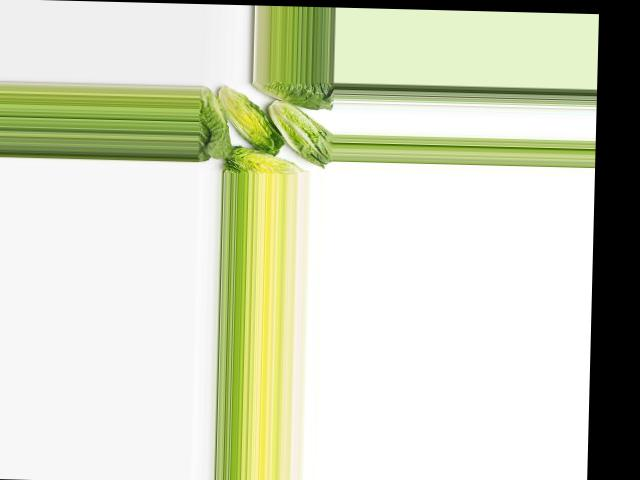lettuce: (197, 88, 235, 163)
